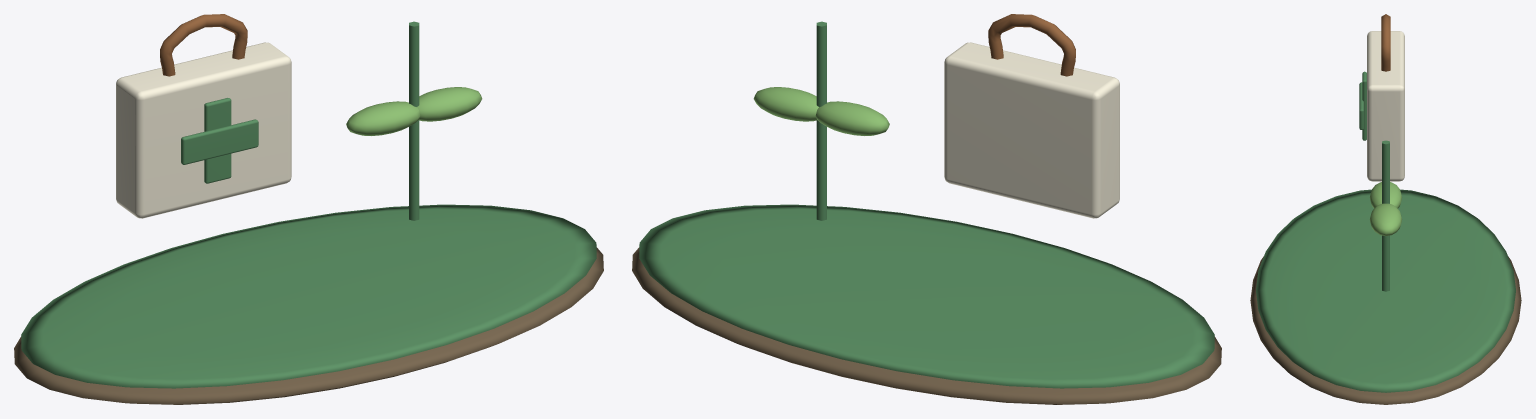
File: healing-growth.glb
The picture shows the model from 3 angles, left to right: view 1: azimuth 30°, elevation 25°; view 2: azimuth 150°, elevation 25°; view 3: azimuth 270°, elevation 25°; orthographic projection. The views are drawn at different scales.
Parts seen in each view (by area): view 1: healing-growth_surface_01, healing-growth_surface_02, healing-growth_surface_00, healing-growth_surface_04, healing-growth_surface_03; view 2: healing-growth_surface_01, healing-growth_surface_02, healing-growth_surface_00, healing-growth_surface_04, healing-growth_surface_03; view 3: healing-growth_surface_01, healing-growth_surface_02, healing-growth_surface_00, healing-growth_surface_04, healing-growth_surface_03.
Boxes of the visible parts, x1=… form: healing-growth_surface_01: x1=21, y1=21, x2=596, y2=388; healing-growth_surface_02: x1=116, y1=42, x2=291, y2=218; healing-growth_surface_00: x1=14, y1=247, x2=603, y2=404; healing-growth_surface_04: x1=346, y1=87, x2=482, y2=135; healing-growth_surface_03: x1=160, y1=14, x2=247, y2=76; healing-growth_surface_01: x1=639, y1=21, x2=1214, y2=388; healing-growth_surface_02: x1=944, y1=42, x2=1119, y2=218; healing-growth_surface_00: x1=632, y1=247, x2=1221, y2=404; healing-growth_surface_04: x1=753, y1=87, x2=889, y2=135; healing-growth_surface_03: x1=988, y1=14, x2=1075, y2=76; healing-growth_surface_01: x1=1256, y1=71, x2=1515, y2=392; healing-growth_surface_02: x1=1367, y1=31, x2=1404, y2=181; healing-growth_surface_00: x1=1250, y1=256, x2=1521, y2=404; healing-growth_surface_04: x1=1369, y1=182, x2=1402, y2=235; healing-growth_surface_03: x1=1381, y1=14, x2=1390, y2=71.
Size of the model in its own units: 4.56 by 2.6 by 2.5.
